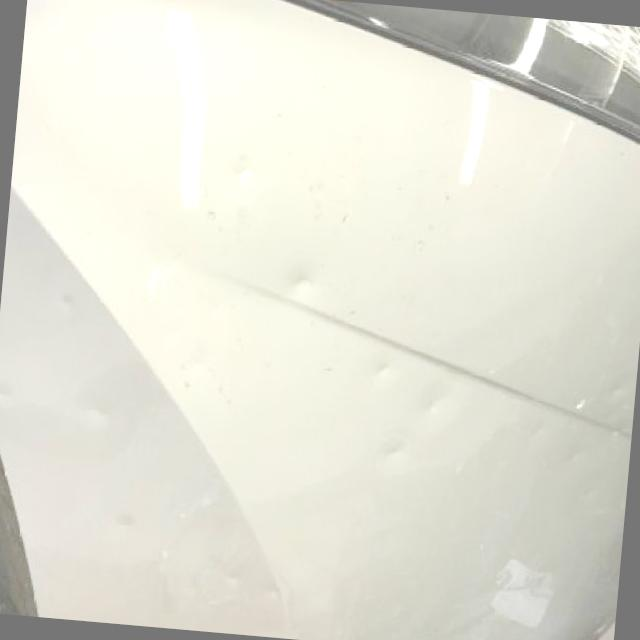dent: (285, 269, 318, 297), (419, 392, 444, 420), (224, 160, 252, 182), (83, 402, 110, 424), (383, 437, 405, 462), (114, 511, 140, 530), (371, 358, 394, 378), (52, 292, 74, 312), (561, 445, 579, 466), (608, 382, 624, 399), (579, 482, 593, 496), (0, 384, 9, 405)
